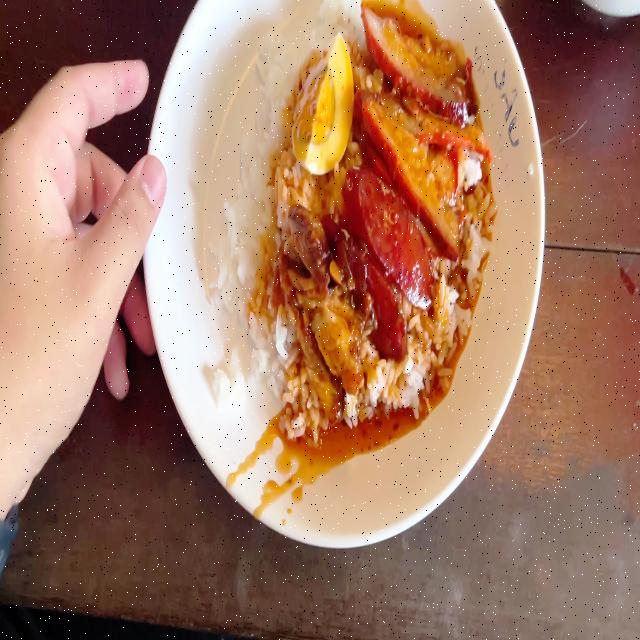boiled_egg: (300, 40, 348, 165)
chainese_sausage: (341, 172, 429, 348)
crispy_pork: (287, 202, 322, 370), (309, 315, 363, 419)
red_pork: (358, 6, 483, 226)
red_pork_and_crispy_pork: (231, 12, 484, 402)
rice: (226, 27, 298, 335)
